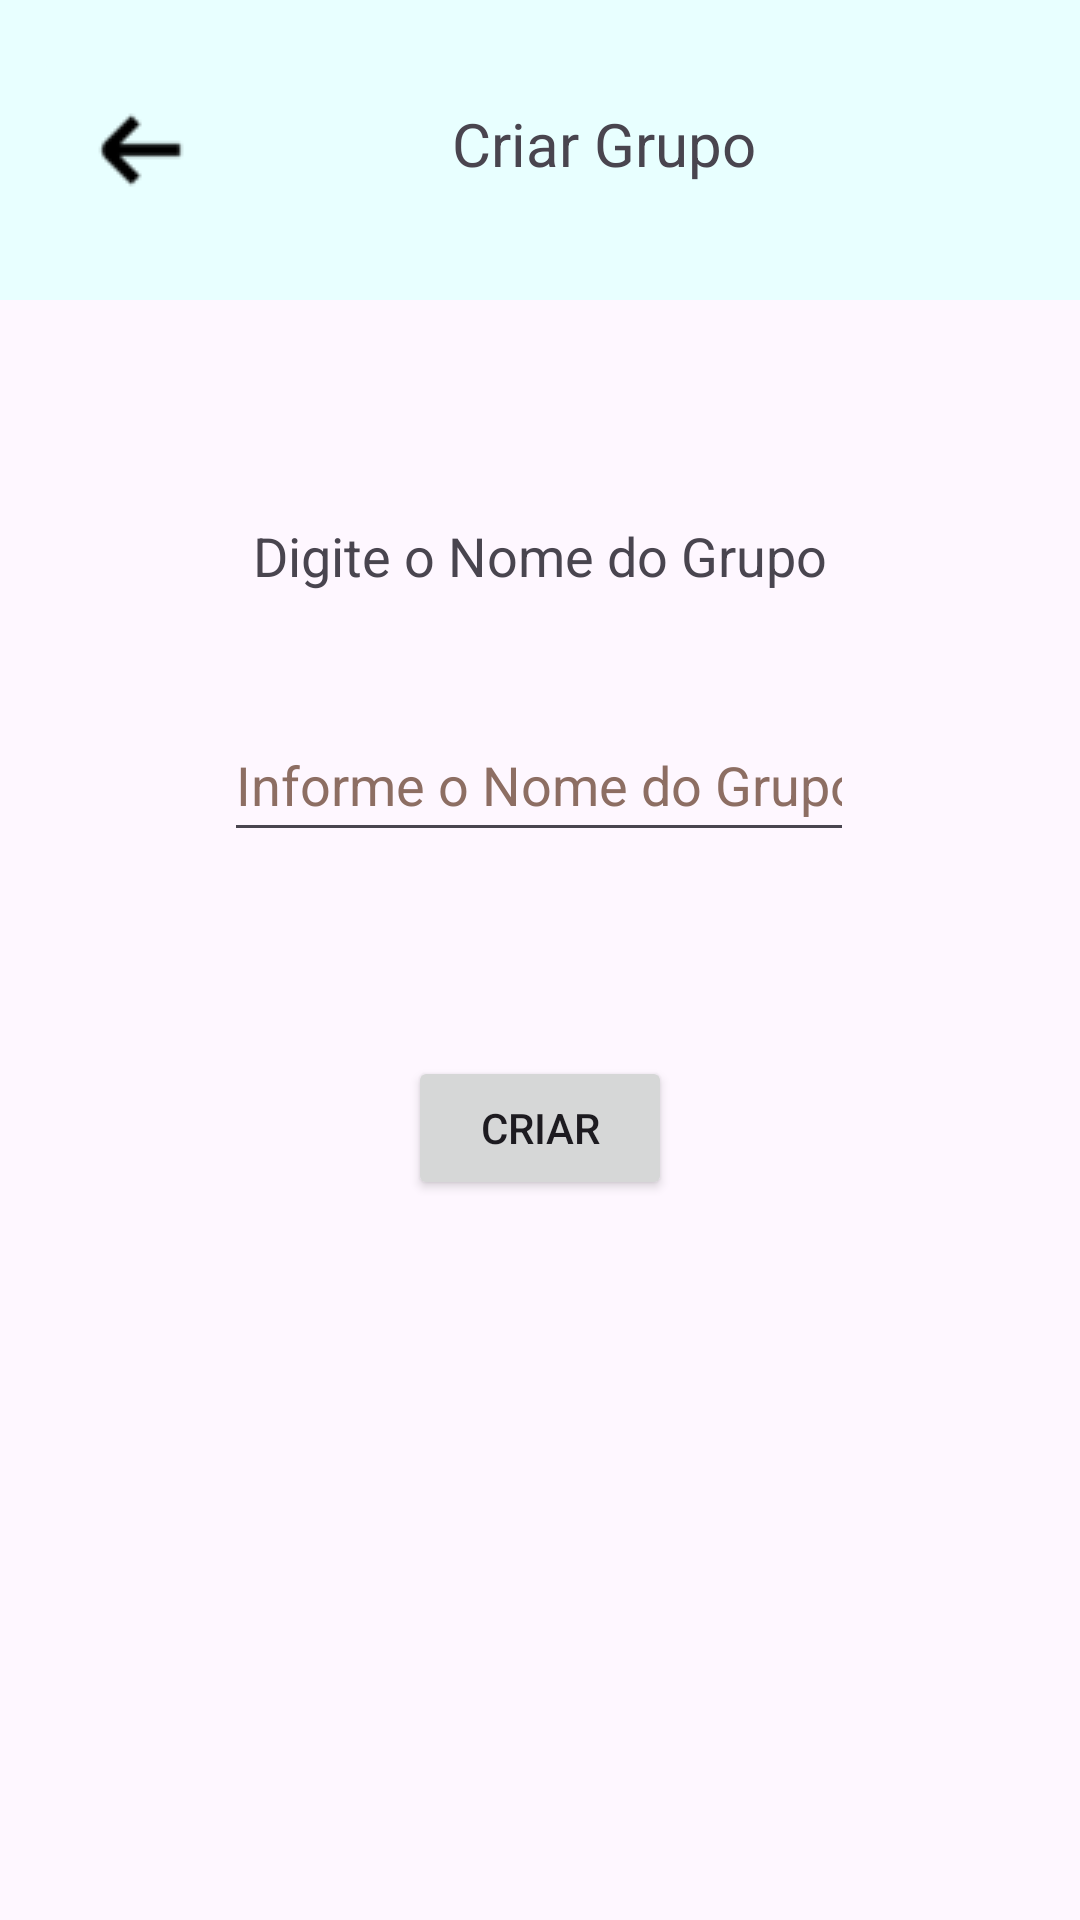

Locate icon controls on the screen. Image size 1080 x 1920, boxes as [x1=x1, y1=y1, x2=x2, y2=y2].
Botao para voltar pra tela anterior: [x1=100, y1=114, x2=182, y2=186]
